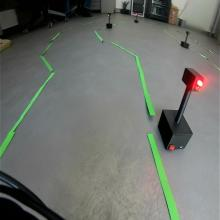red: (182, 67, 205, 94)
